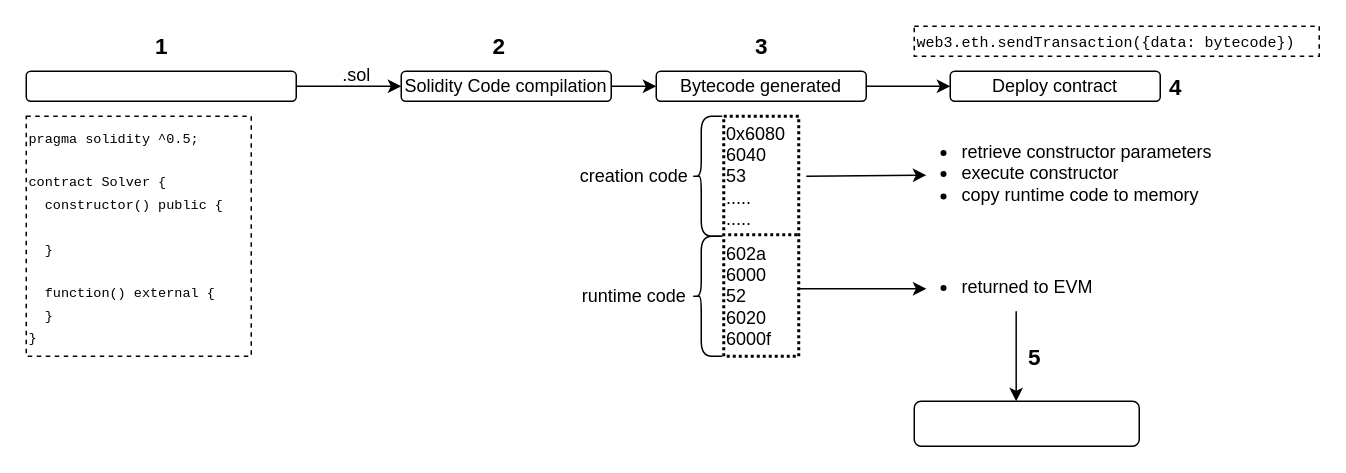
Image size: 1346x473. Some labels were removed from this diagram. Here are the shapes that lost their labels. From the top down, the centre of each, then its label:
At point 160,85: "Solidity Contract definition".
At point 1026,423: "Runtime code stored on Ethereum blockchain".
